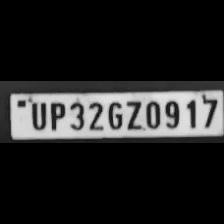0: (143, 98, 161, 130)
1: (182, 96, 200, 130)
2: (84, 99, 104, 131)
3: (66, 99, 86, 131)
7: (198, 97, 218, 129)
9: (161, 98, 181, 130)
G: (104, 97, 124, 130)
P: (47, 99, 65, 130)
U: (27, 99, 47, 130)
Z: (124, 97, 142, 130)
